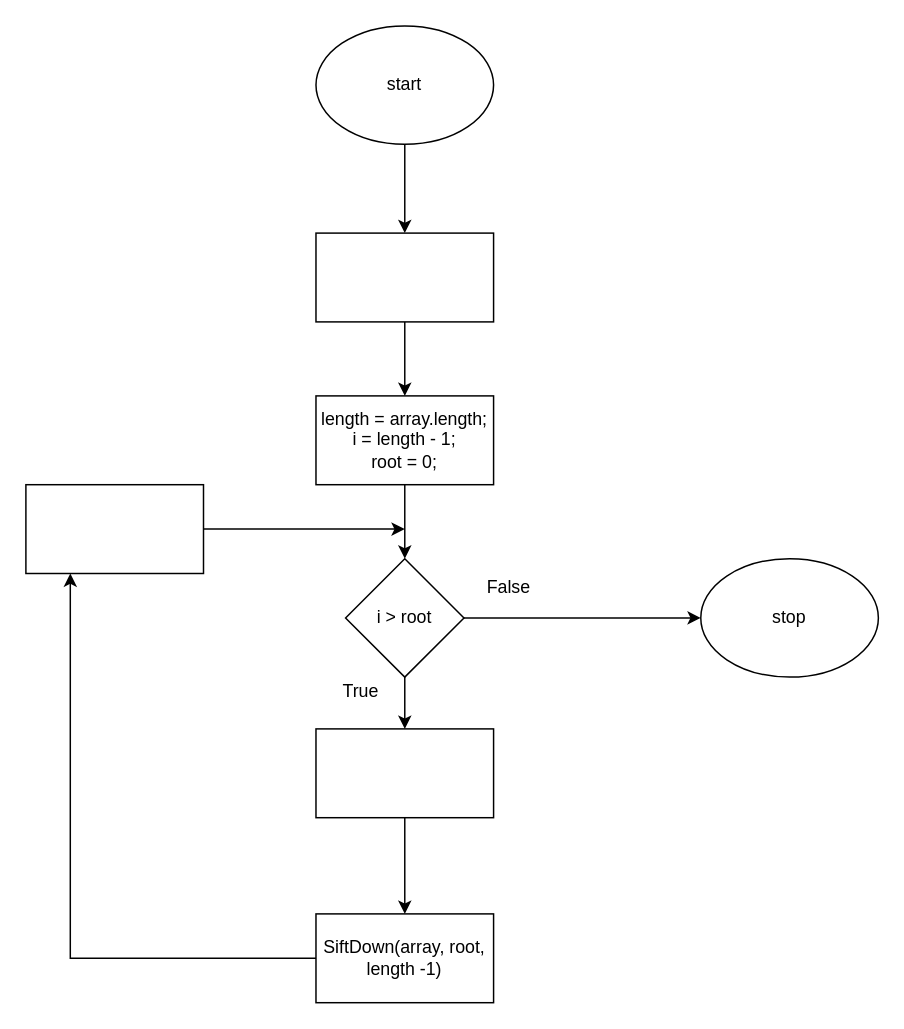
This 904x1029 diagram has some shape labels left out. Here are the shapes that lost their labels. From the top down, the centre of each, then its label:
the point at 404,277: Heapify(array)
the point at 114,528: i--;
the point at 404,772: temp = array[i]; array[i] = array[root] array[root] = temp; length--;
